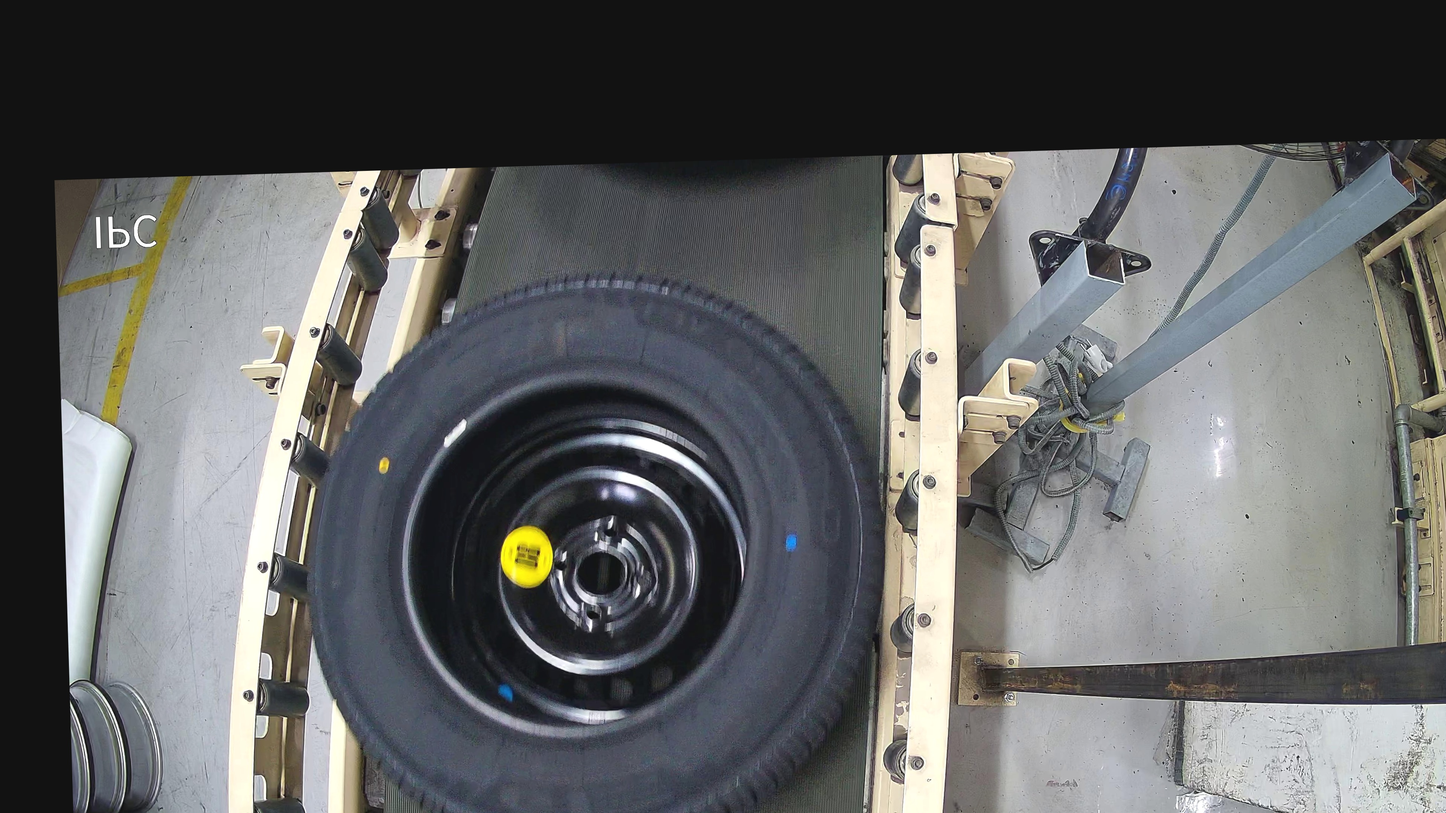80_label: (500, 526, 554, 589)
simple_wheel: (446, 412, 753, 731)
